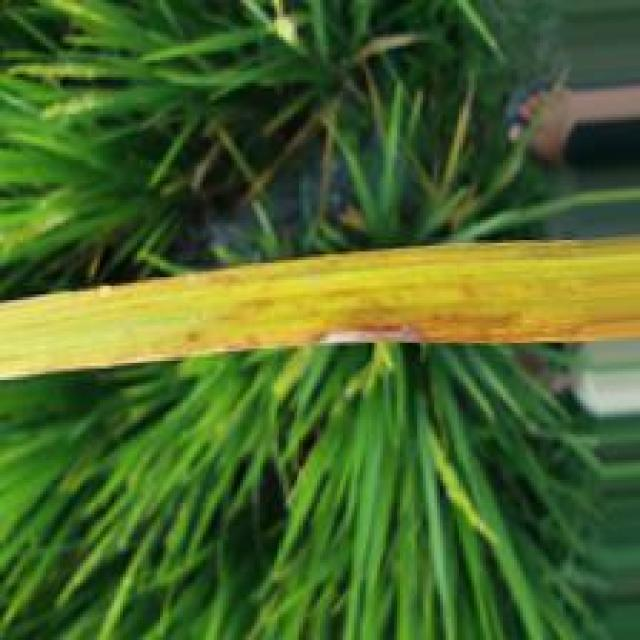Leaf_Blast: (163, 315, 640, 360)
